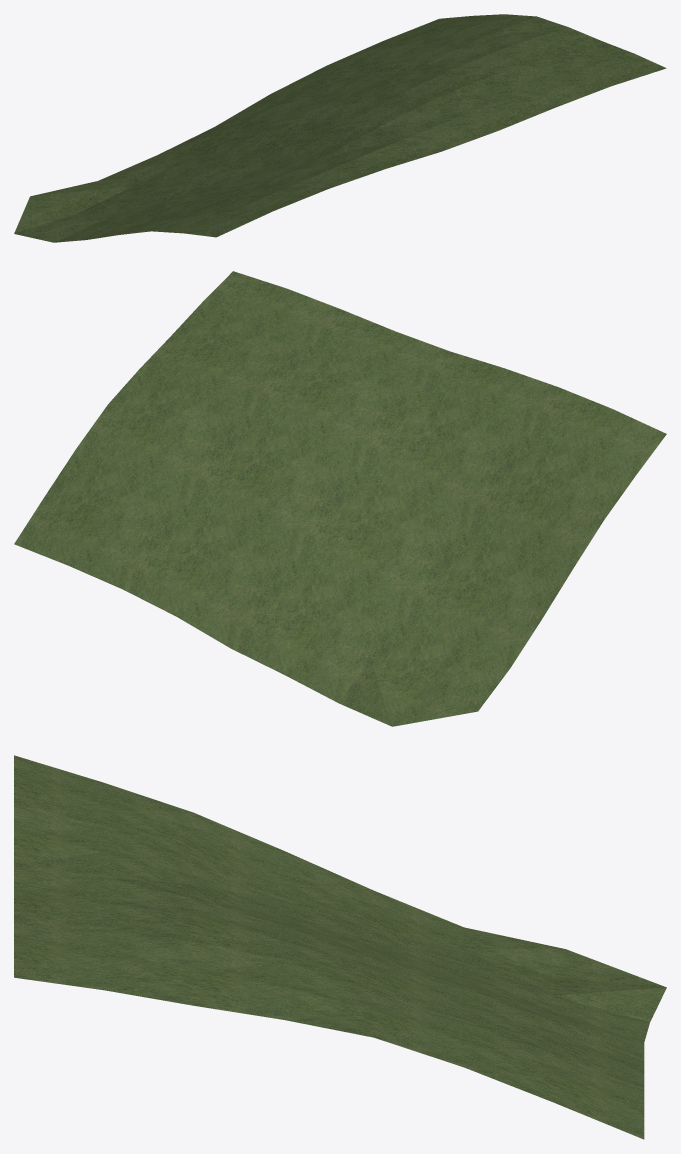
Rendered from a_carisle_mid_landmass_02_15.fbx.
The picture shows the model from 3 angles, top to bottom: view 1: azimuth 30°, elevation 25°; view 2: azimuth 150°, elevation 25°; view 3: azimuth 270°, elevation 25°; orthographic projection. The views are drawn at different scales.
Parts seen in each view (by area): view 1: a_carisle_mid_landmass_02_15; view 2: a_carisle_mid_landmass_02_15; view 3: a_carisle_mid_landmass_02_15.
Part boxes in pixels (box(x1,y1,x2,y2)): a_carisle_mid_landmass_02_15: box(14, 14, 666, 242); a_carisle_mid_landmass_02_15: box(14, 271, 666, 726); a_carisle_mid_landmass_02_15: box(14, 755, 666, 1139).
Bounding box in the file's own units: 16.4 × 14.76 × 7.01.
